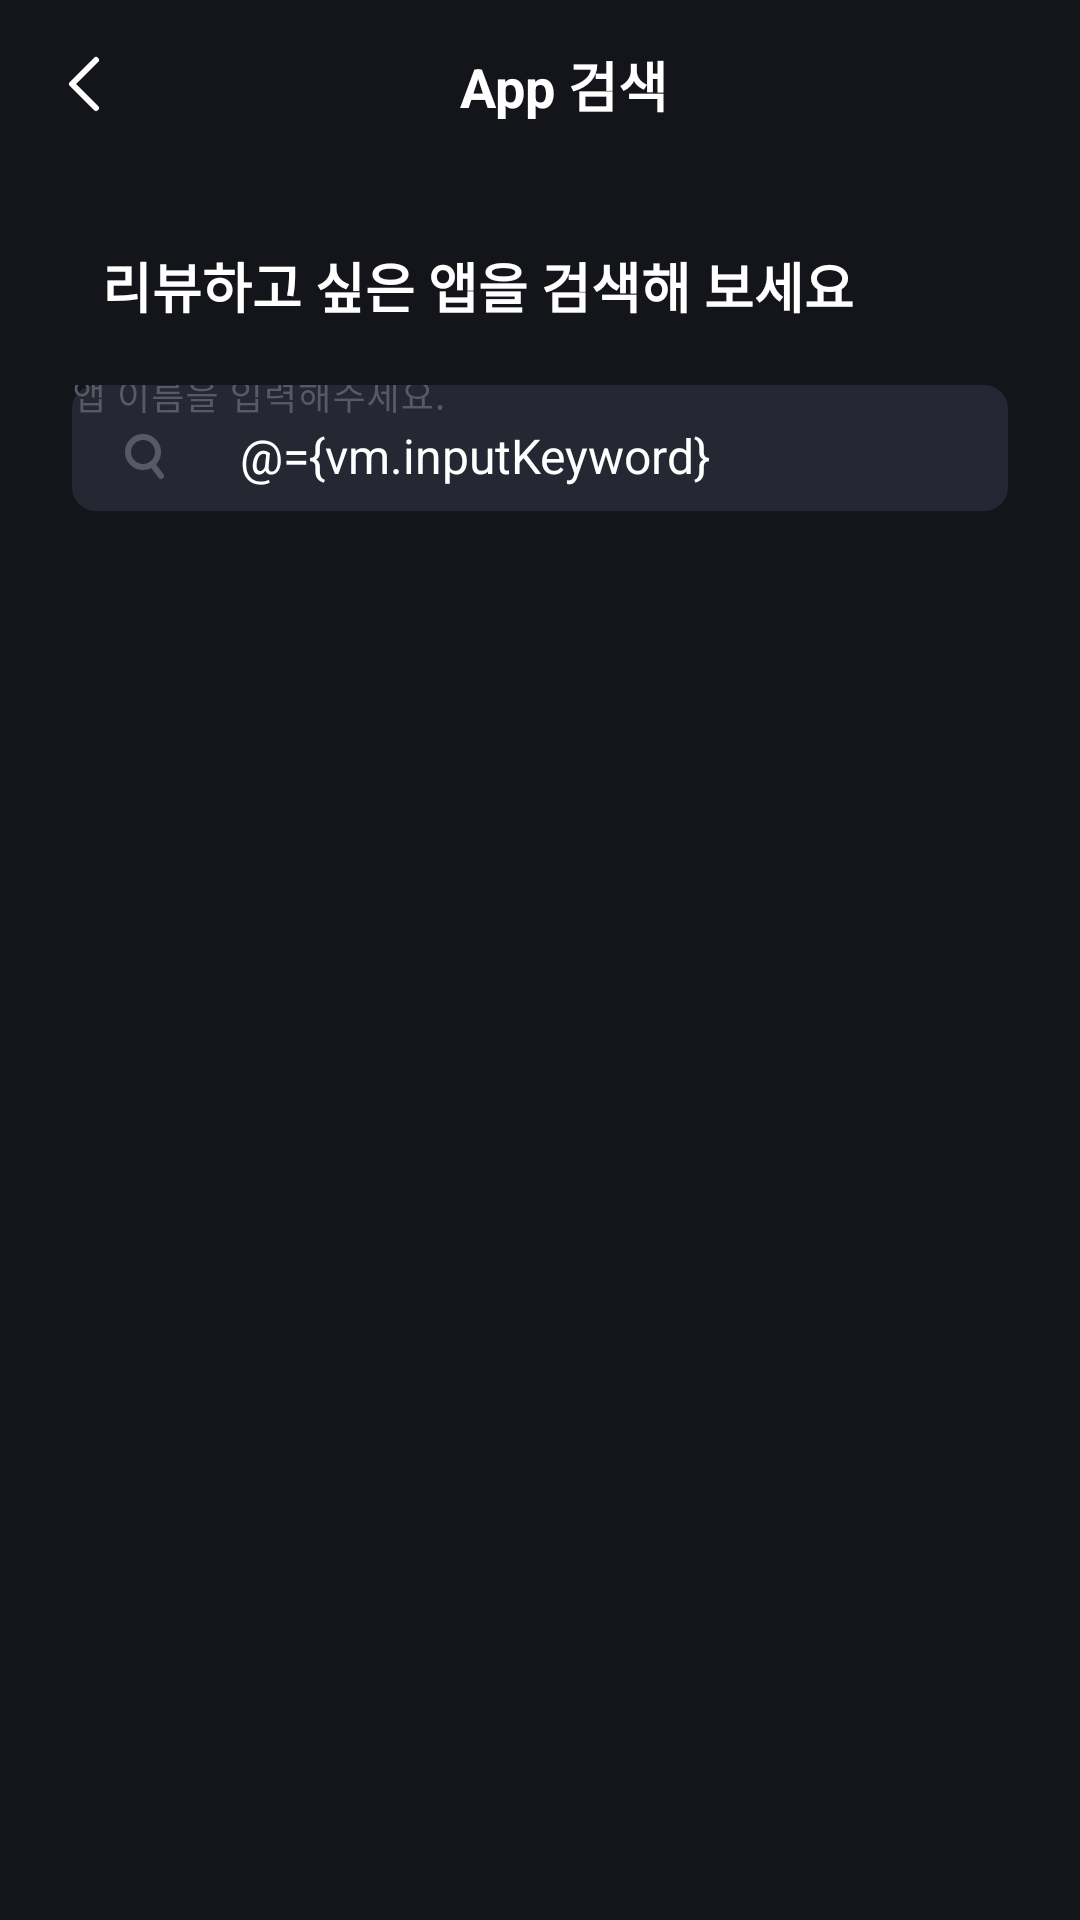

Icons on this 1080 × 1920 Android screen, each with the point to tap as (x=x, y=y):
back button: (x=84, y=83)
